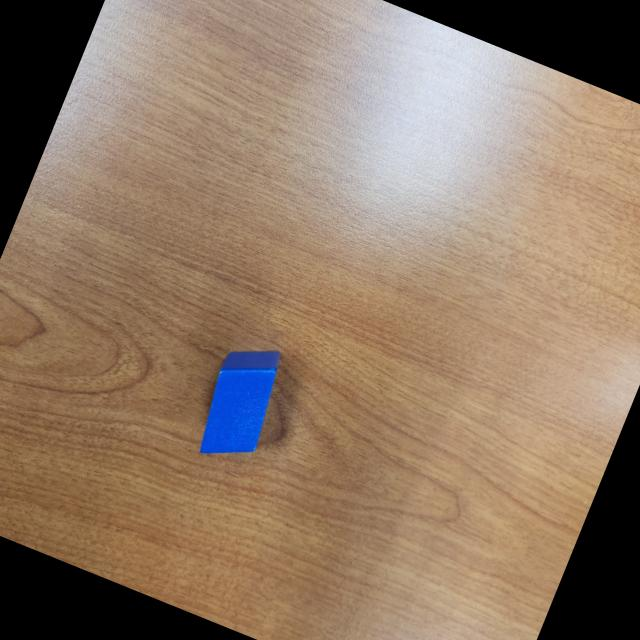blue: (188, 333, 292, 472)
